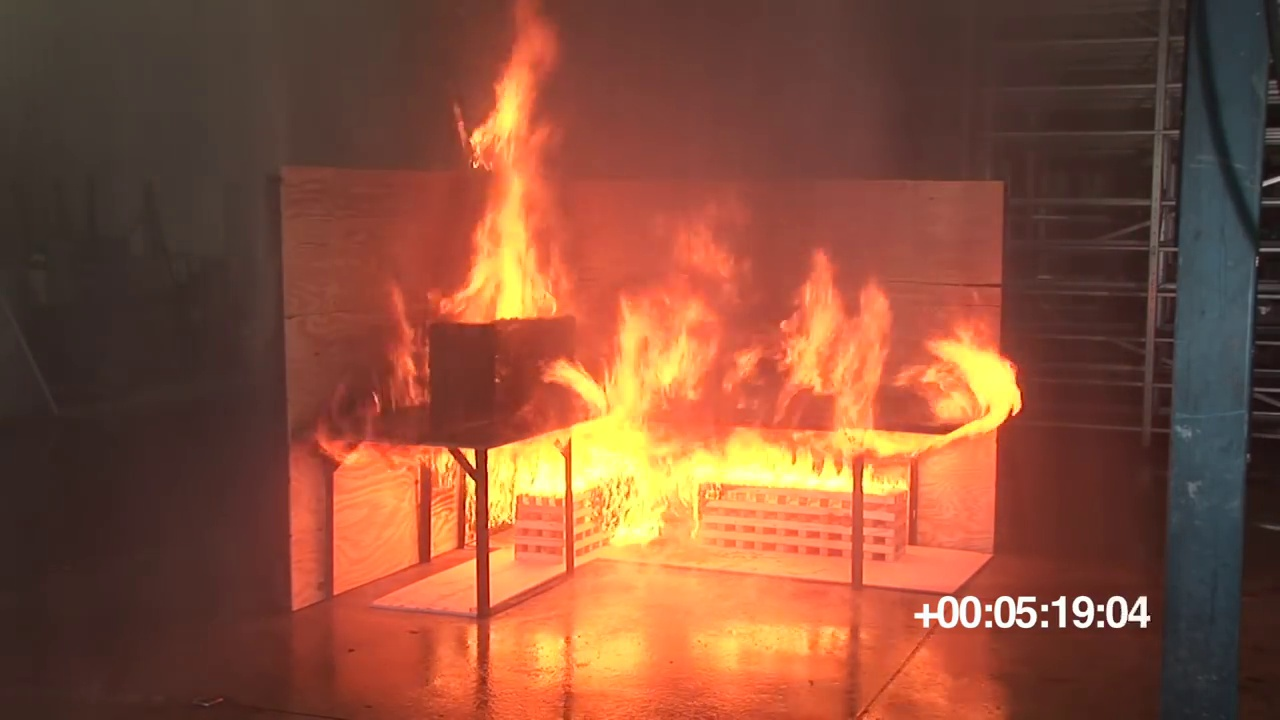fire: (491, 437, 902, 538), (444, 14, 566, 322), (560, 277, 716, 425), (781, 261, 885, 440), (912, 320, 1021, 425)
